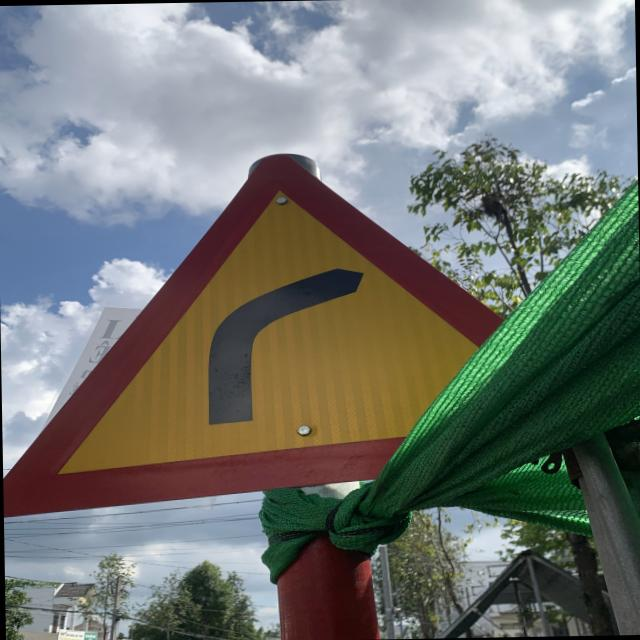Duong_Nguoi_Di_Bo_Cat_Ngang: (0, 149, 465, 514)
